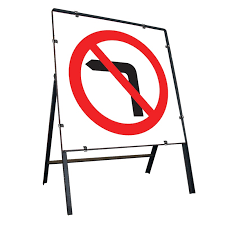No_left_turn: (68, 30, 168, 137)
